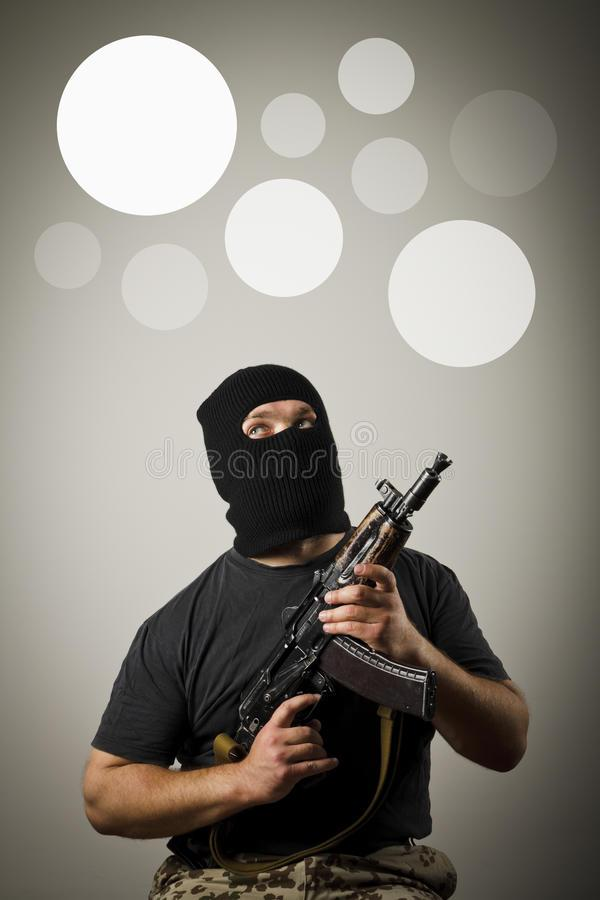criminal: (80, 358, 536, 900)
weapon: (163, 448, 456, 878)
